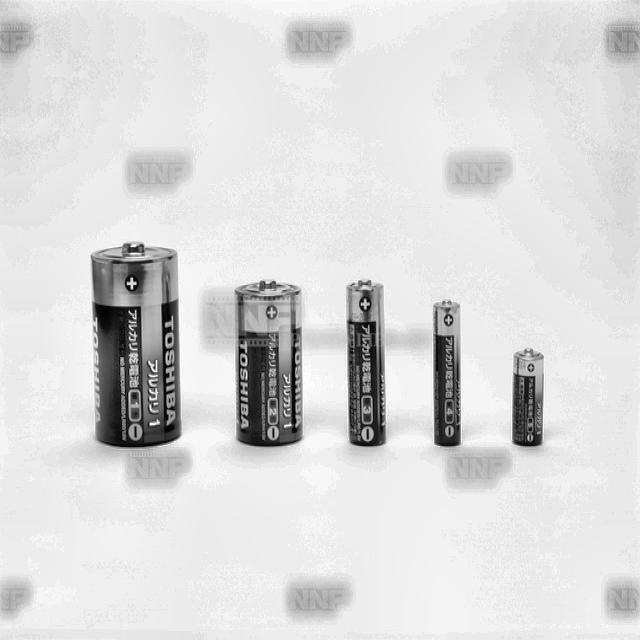drycell: (86, 237, 185, 448), (233, 277, 303, 451)
